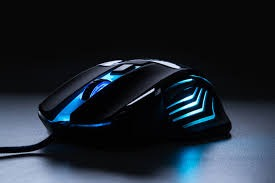mouse: (36, 54, 235, 157)
